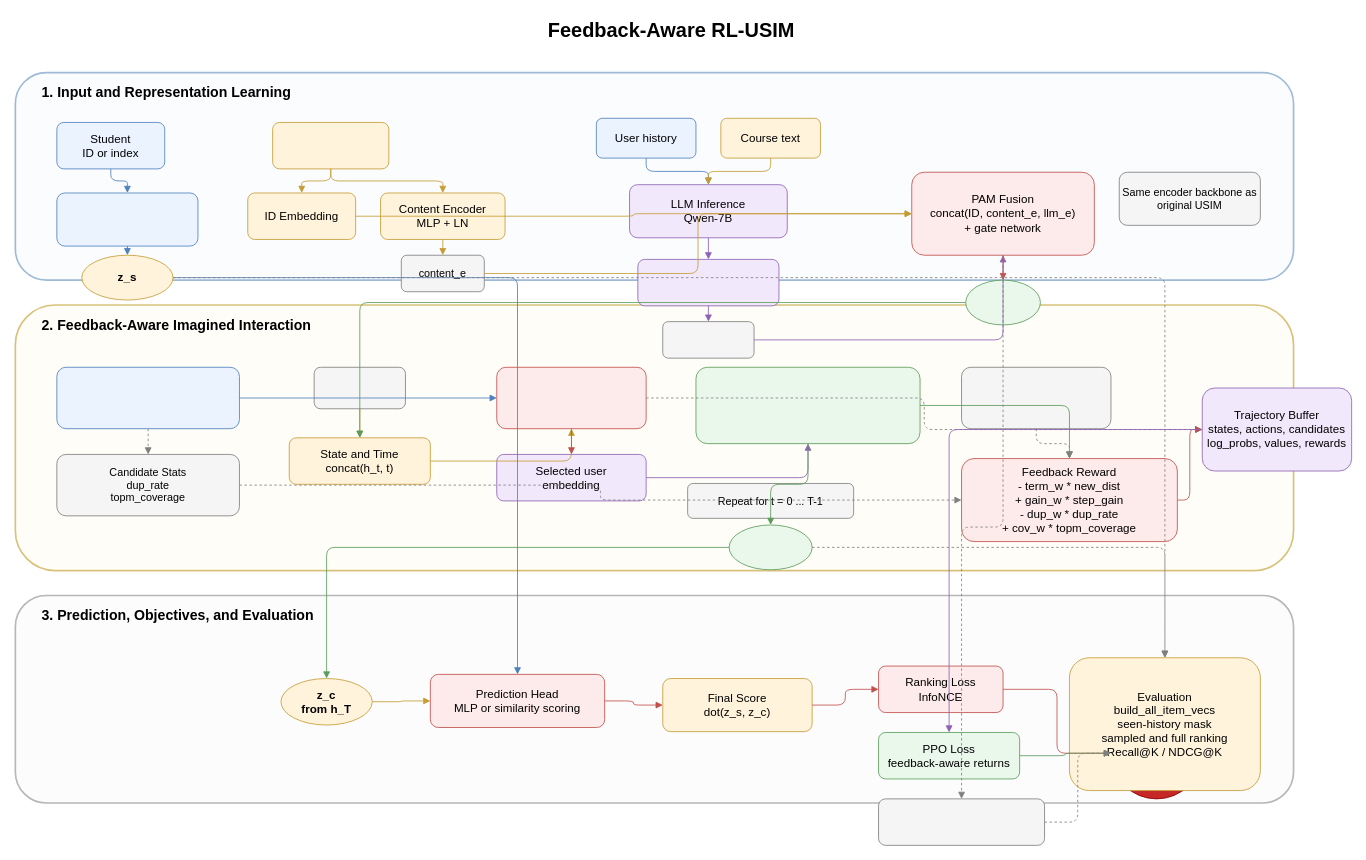
Image size: 1366x860. Some labels were removed from this diagram. The shapes that lost their labels are listed below. From the top down, each one's box as (x1, y1, x2, y2) in pixels, then its label:
(272, 122, 389, 169): Course ID and content
(56, 192, 198, 246): Student Encoder user_emb -> user_proj
(637, 259, 779, 306): LLM Score mask and clamp
(965, 279, 1040, 325): h_0
(662, 321, 754, 358): llm_e
(56, 366, 239, 429): Candidate User Bank retrieve_sample over all users
(313, 366, 405, 409): time step t
(496, 366, 646, 429): PPO Agent Actor-Critic
(695, 366, 920, 444): State Update score = dot(h_t, s_sim) h_t+1 = h_t + eta * grad(score)
(961, 366, 1111, 429): target_emb cold: z_i_base hot: item ID emb
(728, 524, 812, 570): h_T
(878, 798, 1045, 845): Auxiliary Loss aux_loss + prereq_aux_loss
